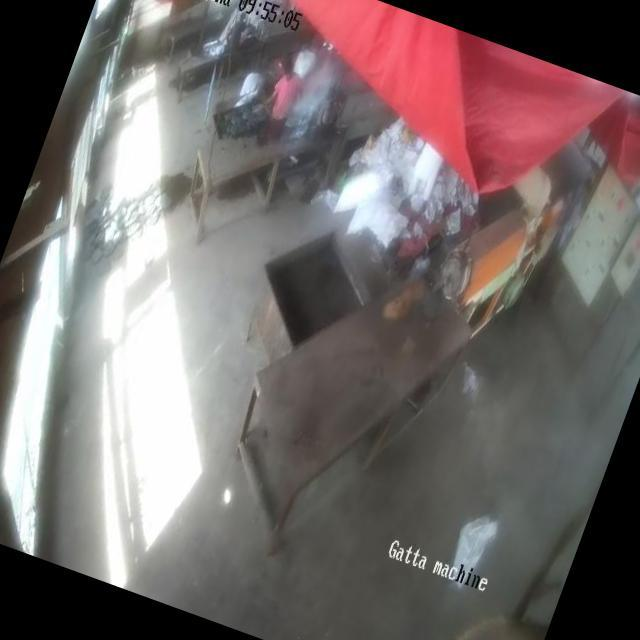person: (251, 49, 316, 147), (221, 6, 255, 57)
